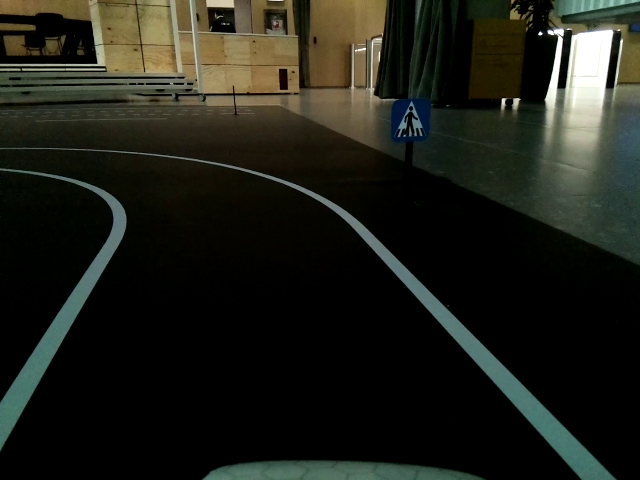pedestrians: (391, 100, 430, 139)
